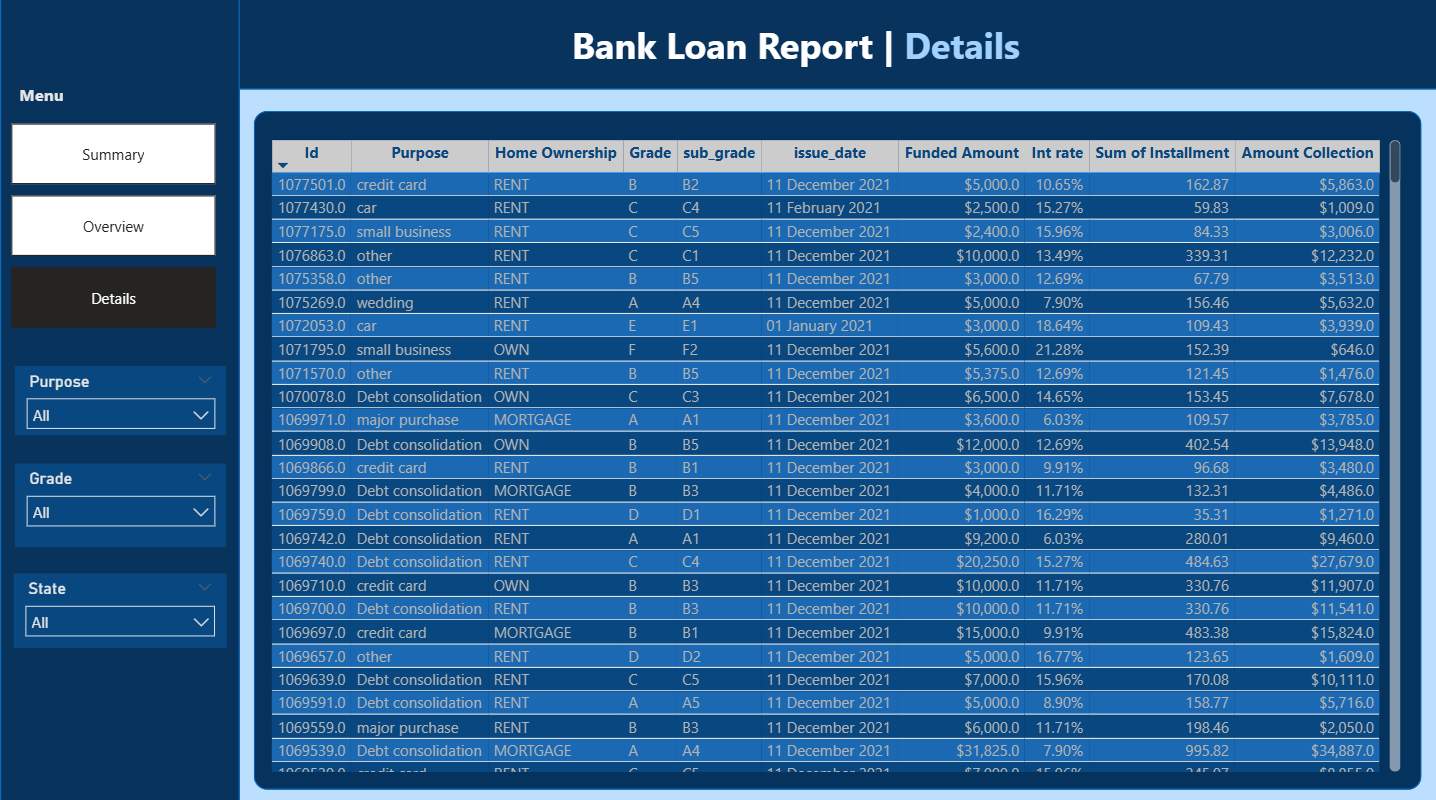

The dashboard page shown, as its layout file describes it:
{"tool":"powerbi","page":{"name":"Details","canvas":[1280,720],"ordinal":2},"visuals":[{"type":"shape","box":[0,0,1280,83.2],"z":0},{"type":"shape","box":[0,0,213.5,720.2],"z":1000},{"type":"shape","box":[225.6,102.5,1040,604.4],"z":2000},{"type":"tableEx","fields":{"Values":["Sum(bankloandb loan_data.id)","bankloandb loan_data.Purpose","bankloandb loan_data.Home Ownership","bankloandb loan_data.grade","bankloandb loan_data.sub_grade","bankloandb loan_data.issue_date","Sum(bankloandb loan_data.loan_amount)","Sum(bankloandb loan_data.int_rate)","Sum(bankloandb loan_data.installment)","bankloandb loan_data.total_payment"]},"box":[236.5,123.1,1015.8,571.9],"z":3000},{"type":"slicer","fields":{"Values":["bankloandb loan_data.purpose"]},"box":[13.3,329.4,188.2,61.5],"z":4000},{"type":"slicer","fields":{"Values":["bankloandb loan_data.grade"]},"box":[13.3,416.2,188.2,74.8],"z":5000},{"type":"slicer","fields":{"Values":["bankloandb loan_data.address_state"]},"box":[12.1,513.9,189.4,66.4],"z":6000},{"type":"textbox","box":[438.9,16.6,540.5,54.3],"z":32000},{"type":"pageNavigator","box":[9.7,113.4,182.2,182.2],"z":33000},{"type":"textbox","box":[12.1,72.4,65.1,30.2],"z":34000}]}

Visuals, with their boxes on the page's 1280x720 design canvas (x1, y1, x2, y2). These are canvas units, not pixel positions in the 1436x800 screenshot, which may show the page scaled, cropped or inside an application window:
shape: select_region(0, 0, 1280, 83)
shape: select_region(0, 0, 214, 720)
shape: select_region(226, 102, 1266, 707)
tableEx - Sum(bankloandb loan_data.id) x bankloandb loan_data.Purpose: select_region(236, 123, 1252, 695)
slicer - bankloandb loan_data.purpose: select_region(13, 329, 202, 391)
slicer - bankloandb loan_data.grade: select_region(13, 416, 202, 491)
slicer - bankloandb loan_data.address_state: select_region(12, 514, 202, 580)
textbox: select_region(439, 17, 979, 71)
pageNavigator: select_region(10, 113, 192, 296)
textbox: select_region(12, 72, 77, 103)
